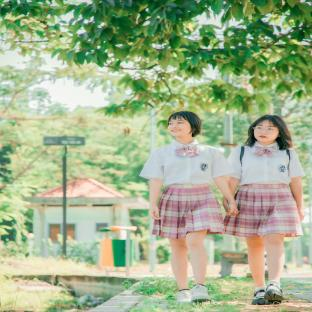Human: (140, 111, 305, 304)
